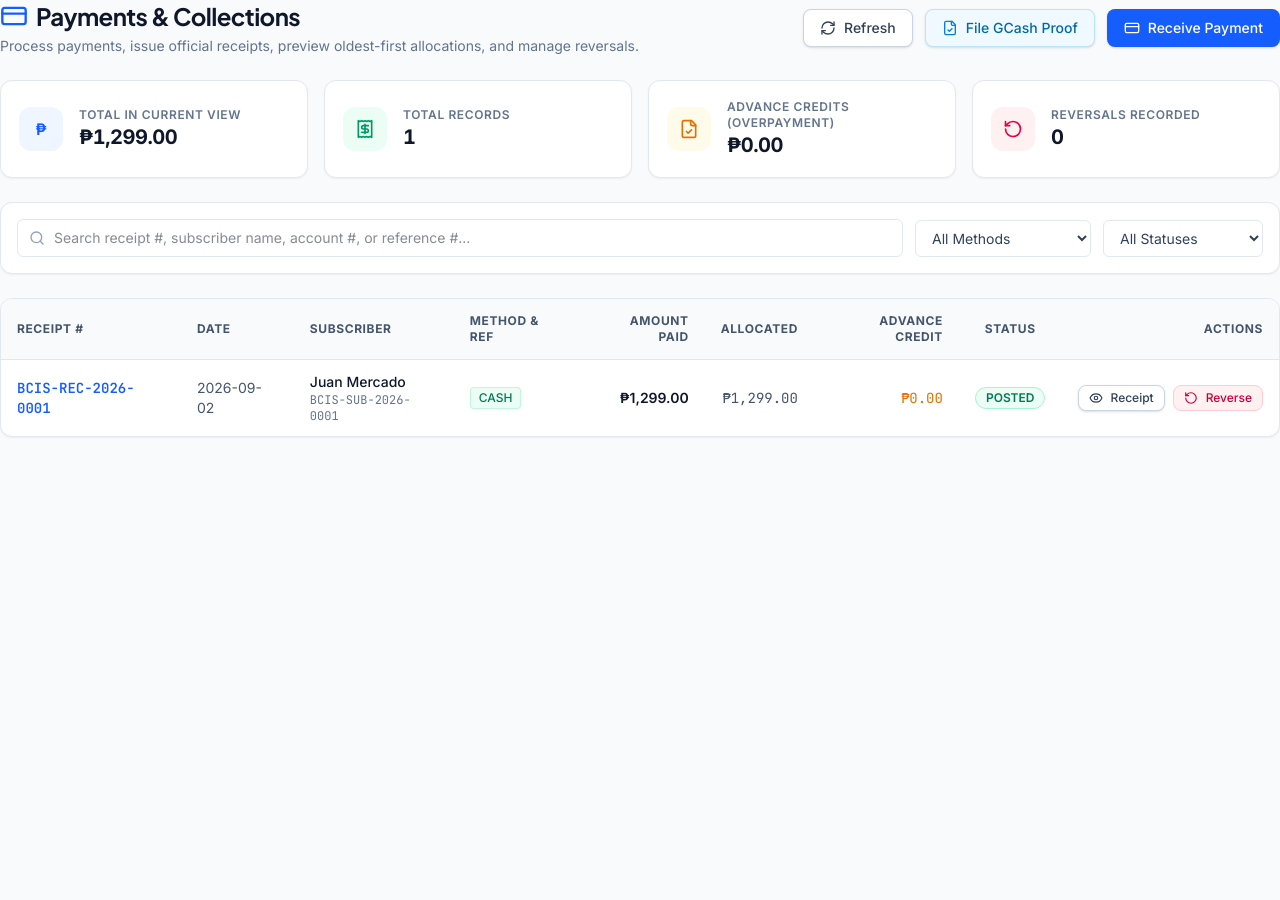
PaymentsPage Component (Phase 4 - AT-01 to AT-06) › submits payment and automatically opens Official Receipt modal
Click the button "Receive Payment": (1193, 28) [1107, 9, 1279, 47]
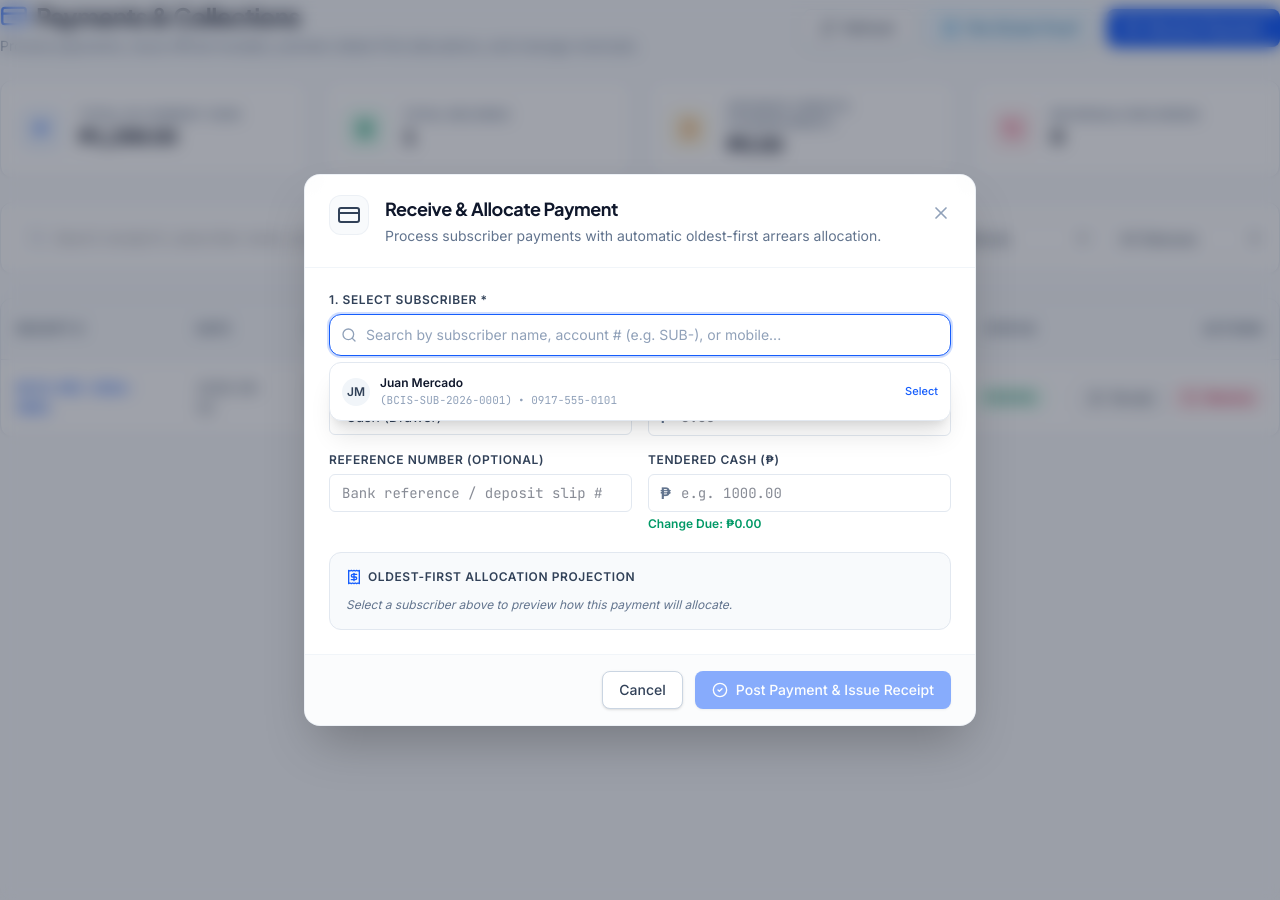
Check: the text "(BCIS-SUB-2026-0001)" is shown
Click the text "(BCIS-SUB-2026-0001)": (383, 400) [380, 393, 512, 407]
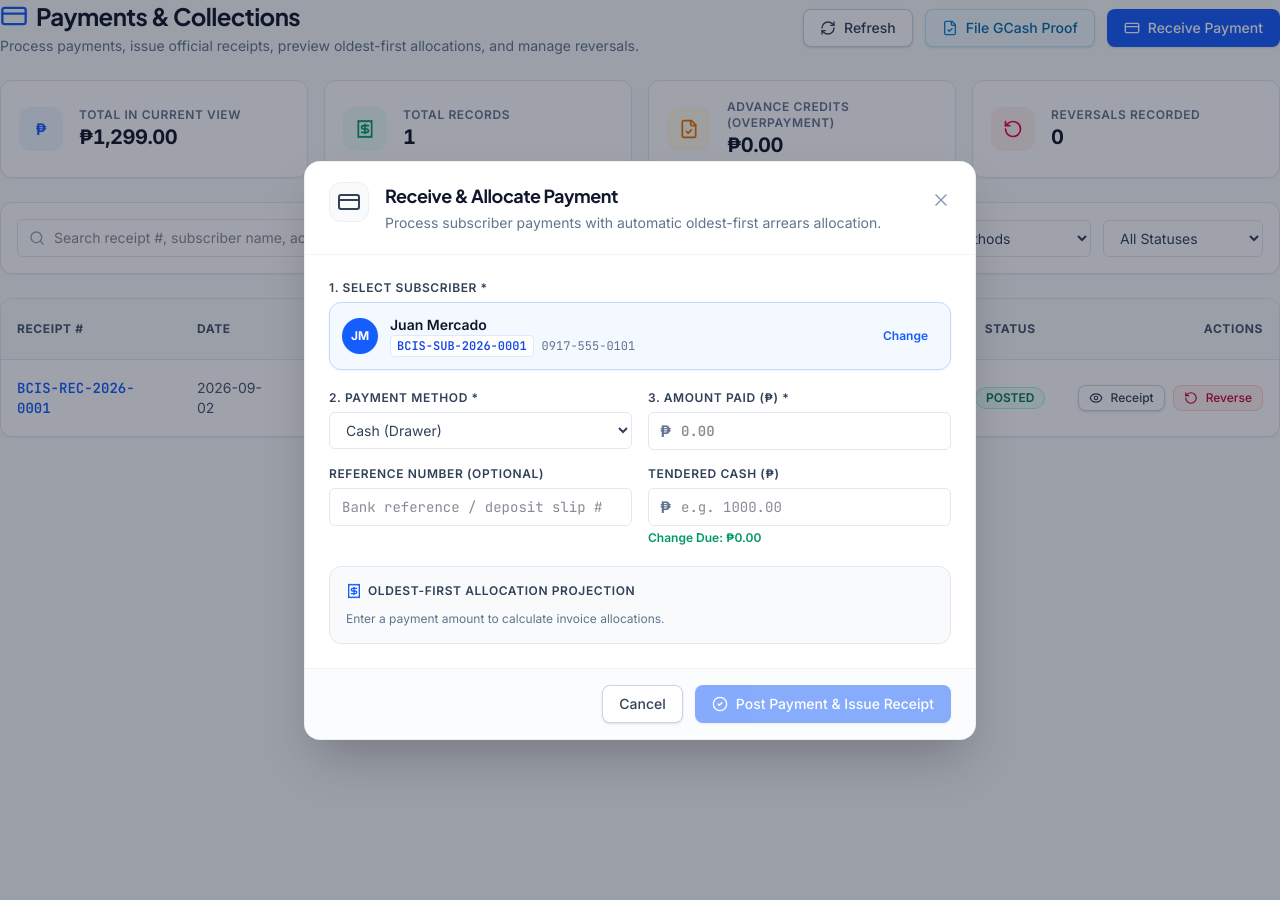
# Enter amount
In the number field with placeholder "0.00": (800, 430) [648, 411, 951, 449], type "1299.00"
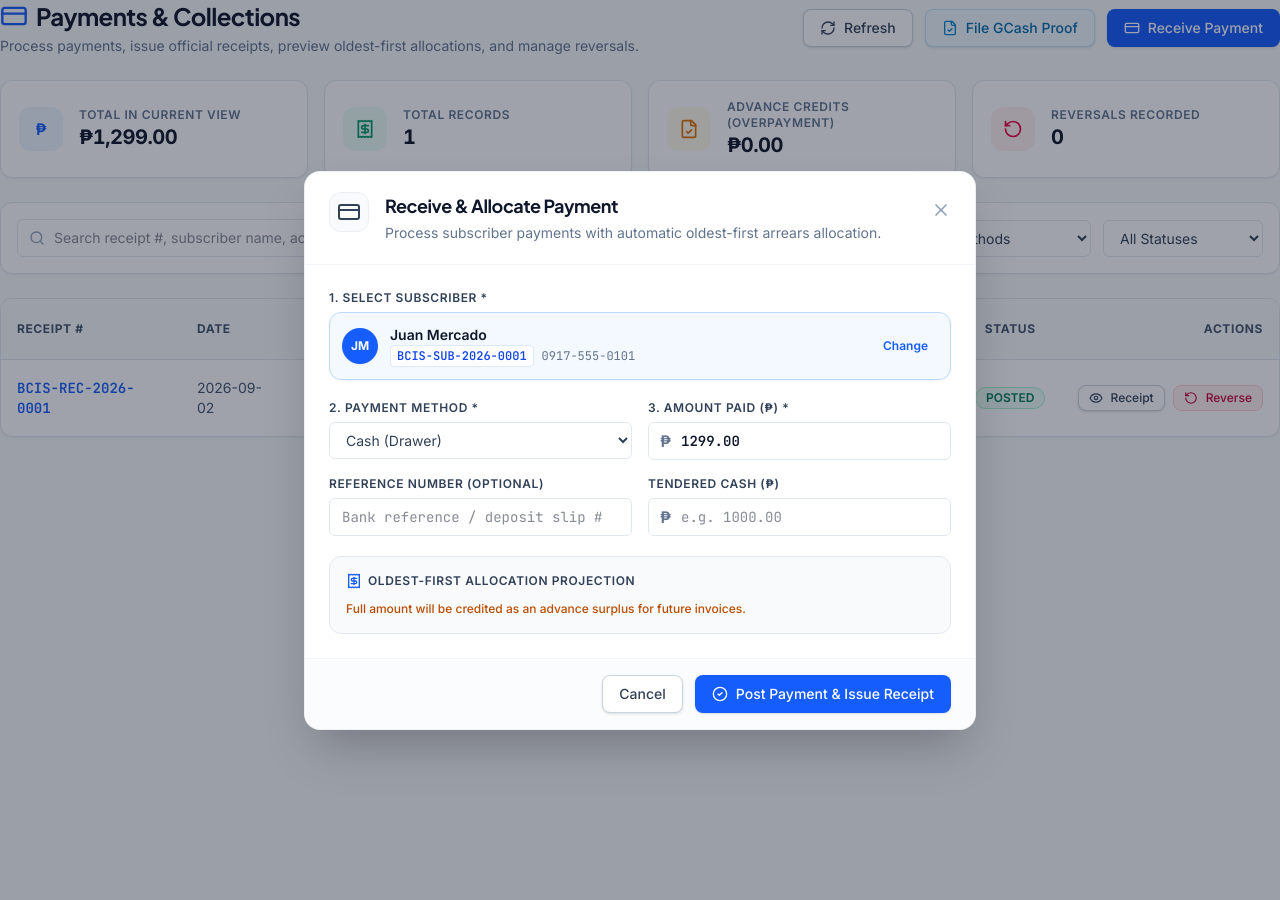
Click the button "Post Payment & Issue Receipt": (823, 693) [695, 674, 951, 712]
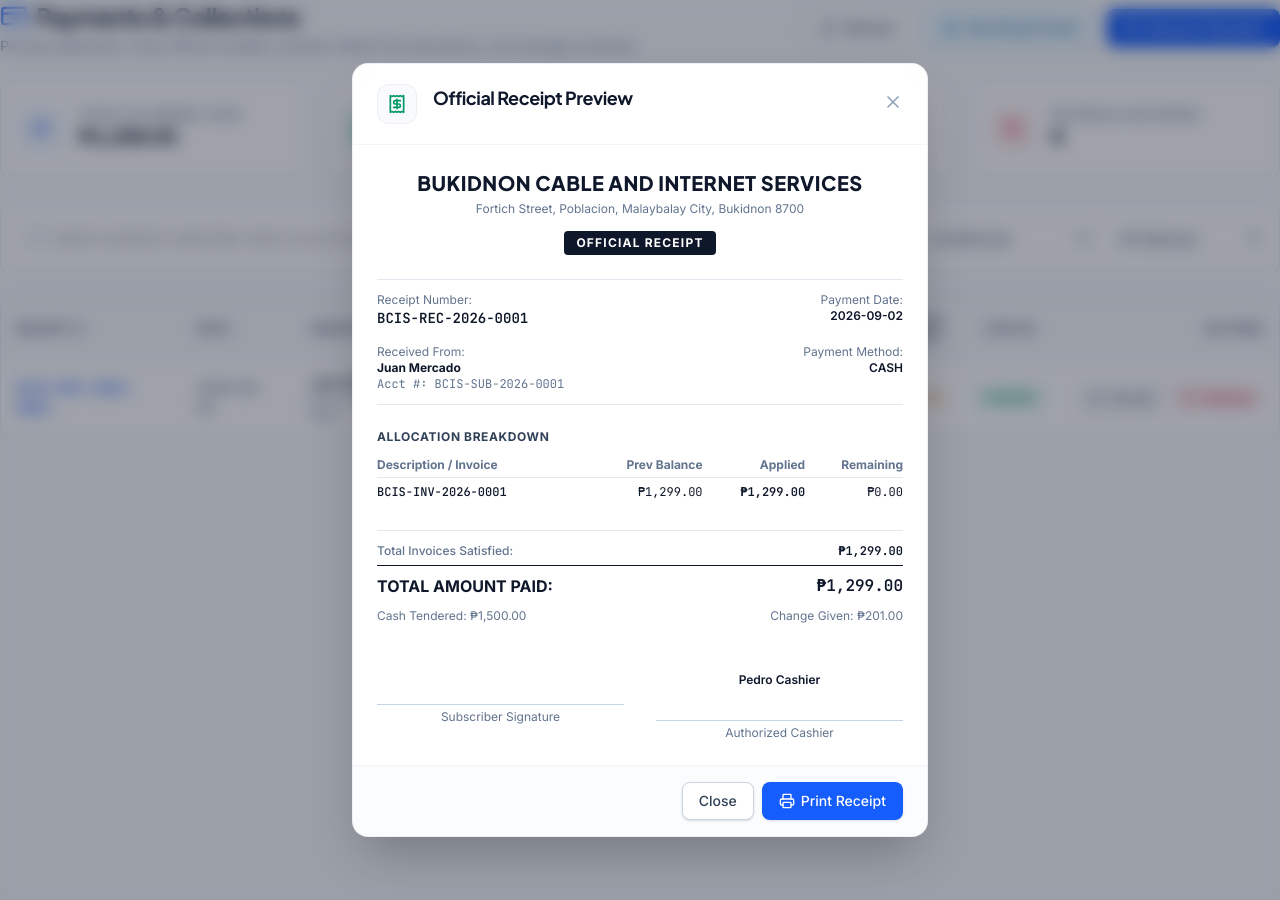
Check: the heading "Official Receipt Preview" is shown, box [433, 84, 633, 112]
Check: the heading "Bukidnon Cable and Internet Services" is shown, box [417, 170, 863, 195]
Check: the button "Print Receipt" is shown, box [762, 782, 903, 820]
